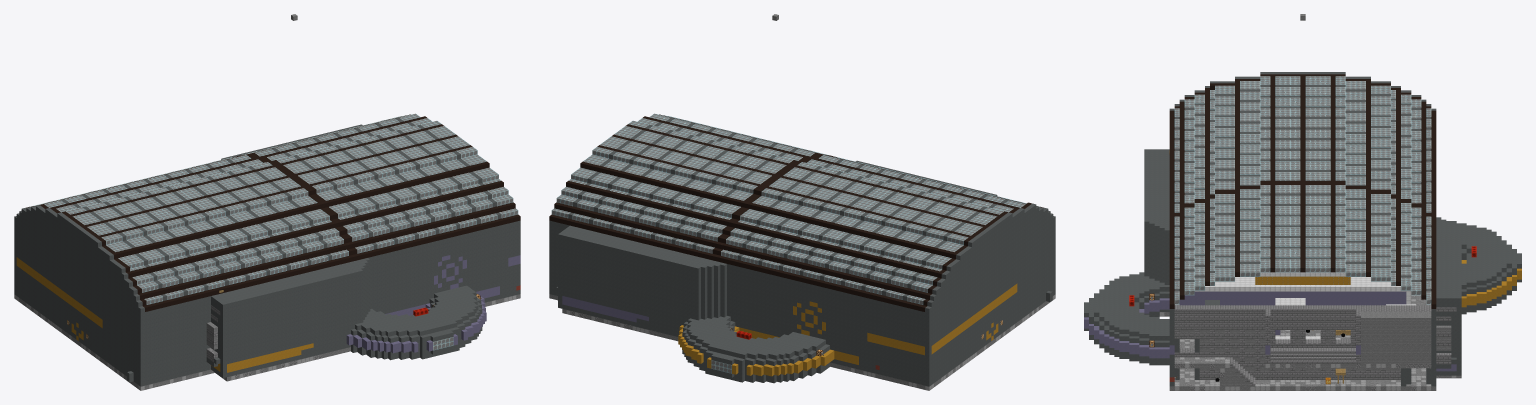
The model's file is minecraft.obj.
3 views of the same model, side by side, from view 1: azimuth 30°, elevation 25°; view 2: azimuth 150°, elevation 25°; view 3: azimuth 270°, elevation 25° (orthographic). The views are drawn at different scales.
Size of the model in its own units: 930 by 640 by 870.
